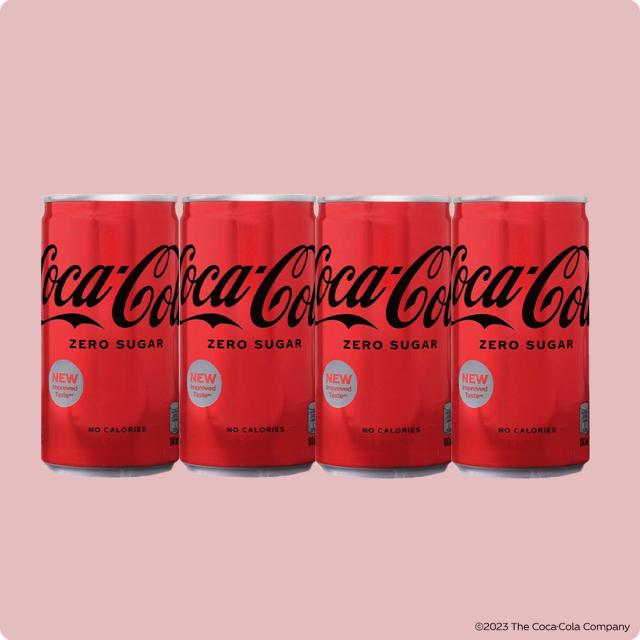cocacola: (37, 183, 178, 495), (179, 182, 322, 484), (321, 191, 461, 491), (470, 191, 605, 465)
